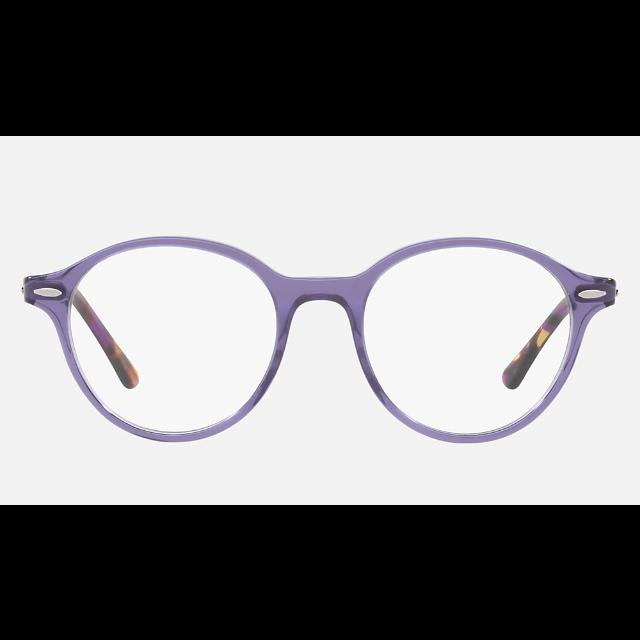glasses: (24, 235, 616, 443)
